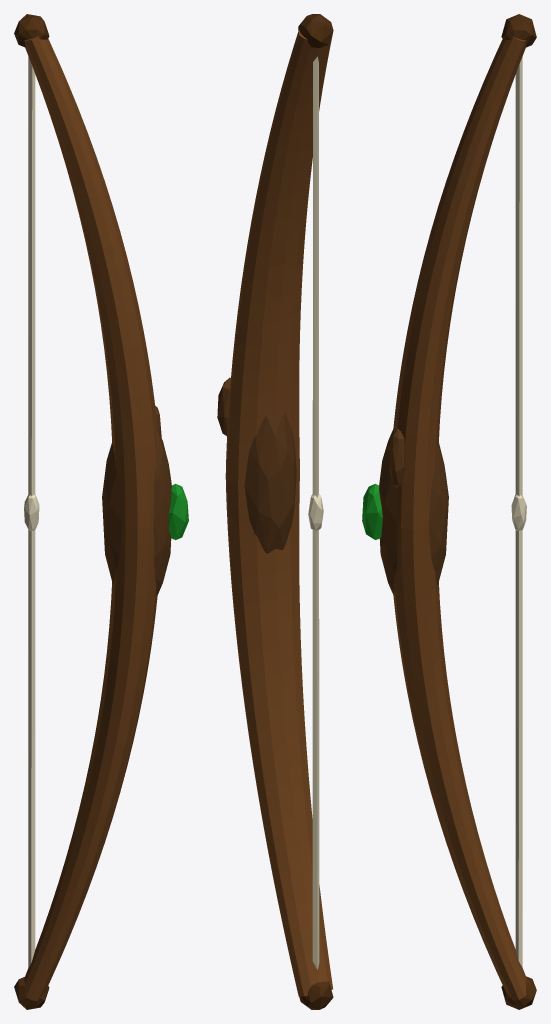
The model's file is bow_0.glb.
3 views of the same model, side by side, from view 1: azimuth 90°, elevation 25°; view 2: azimuth 210°, elevation 25°; view 3: azimuth 270°, elevation 25° (orthographic).
Visible parts, largest first — view 1: part_01, part_04, part_07, part_09, part_17, part_02, part_05, part_08; view 2: part_04, part_01, part_07, part_09, part_02, part_05, part_16, part_08; view 3: part_01, part_04, part_07, part_09, part_17, part_16, part_02, part_05, part_08.
Part boxes in pixels (x1=…): part_01: x1=24, y1=36, x2=157, y2=529; part_04: x1=24, y1=525, x2=157, y2=1001; part_07: x1=28, y1=56, x2=35, y2=967; part_09: x1=102, y1=429, x2=171, y2=595; part_17: x1=168, y1=483, x2=188, y2=540; part_02: x1=14, y1=14, x2=49, y2=47; part_05: x1=14, y1=977, x2=49, y2=1009; part_08: x1=24, y1=495, x2=39, y2=530; part_04: x1=225, y1=470, x2=332, y2=996; part_01: x1=225, y1=30, x2=332, y2=485; part_07: x1=312, y1=56, x2=319, y2=969; part_09: x1=244, y1=410, x2=296, y2=553; part_02: x1=298, y1=14, x2=333, y2=48; part_05: x1=299, y1=981, x2=333, y2=1009; part_16: x1=217, y1=377, x2=230, y2=435; part_08: x1=308, y1=494, x2=323, y2=530; part_01: x1=393, y1=36, x2=526, y2=529; part_04: x1=393, y1=525, x2=526, y2=1000; part_07: x1=515, y1=57, x2=522, y2=967; part_09: x1=379, y1=429, x2=448, y2=595; part_17: x1=362, y1=483, x2=382, y2=539; part_16: x1=389, y1=428, x2=404, y2=488; part_02: x1=501, y1=14, x2=536, y2=47; part_05: x1=501, y1=976, x2=536, y2=1009; part_08: x1=511, y1=494, x2=526, y2=530.
Bounding box in the file's own units: 0.0749 × 0.9819 × 0.1568.
